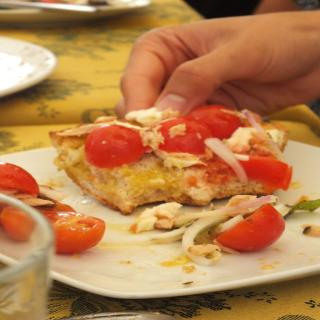tomato: (216, 203, 284, 253), (0, 195, 71, 241), (85, 122, 145, 167), (41, 212, 103, 254), (150, 115, 212, 157), (228, 156, 292, 192), (187, 103, 245, 142), (0, 161, 38, 194)
